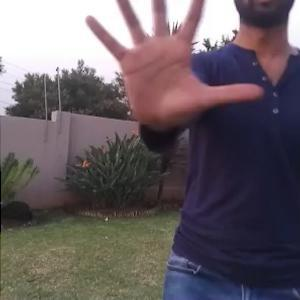follow_hand: (77, 0, 266, 134)
